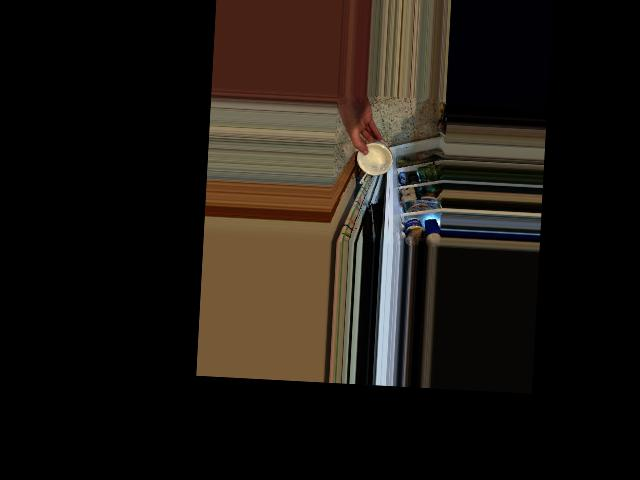cotage: (358, 142, 394, 181)
